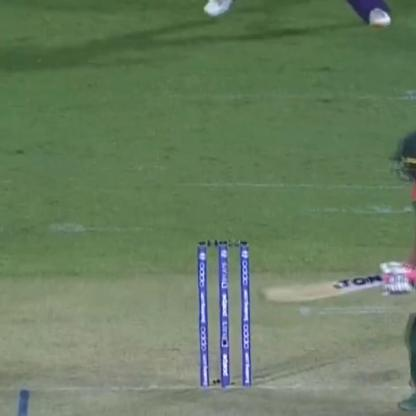bat: (254, 270, 416, 309)
